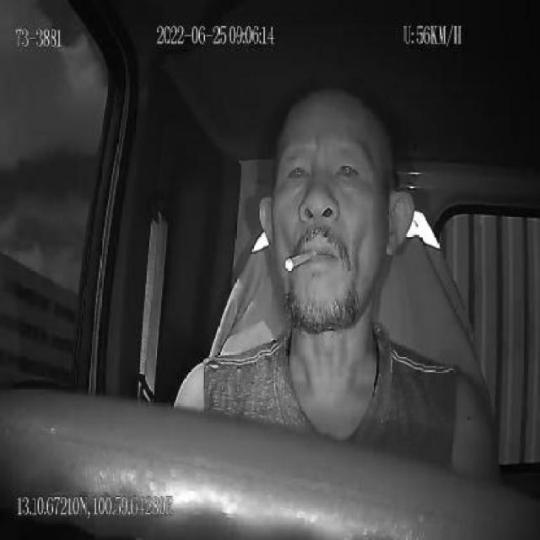smoking: (284, 248, 316, 270)
